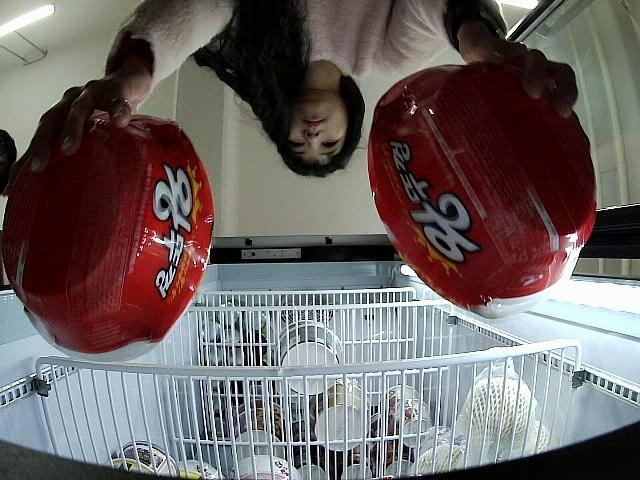00_hand: (28, 43, 152, 186), (459, 25, 578, 121)
10_wangTtukkeong: (368, 62, 599, 317), (0, 111, 214, 366)
